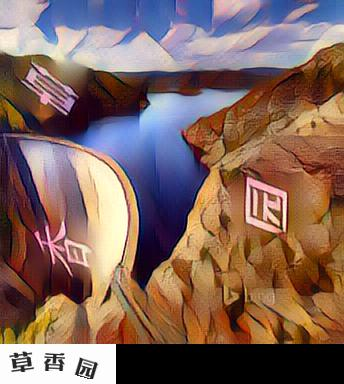character: (30, 216, 105, 283), (19, 56, 86, 118), (238, 168, 294, 240)
